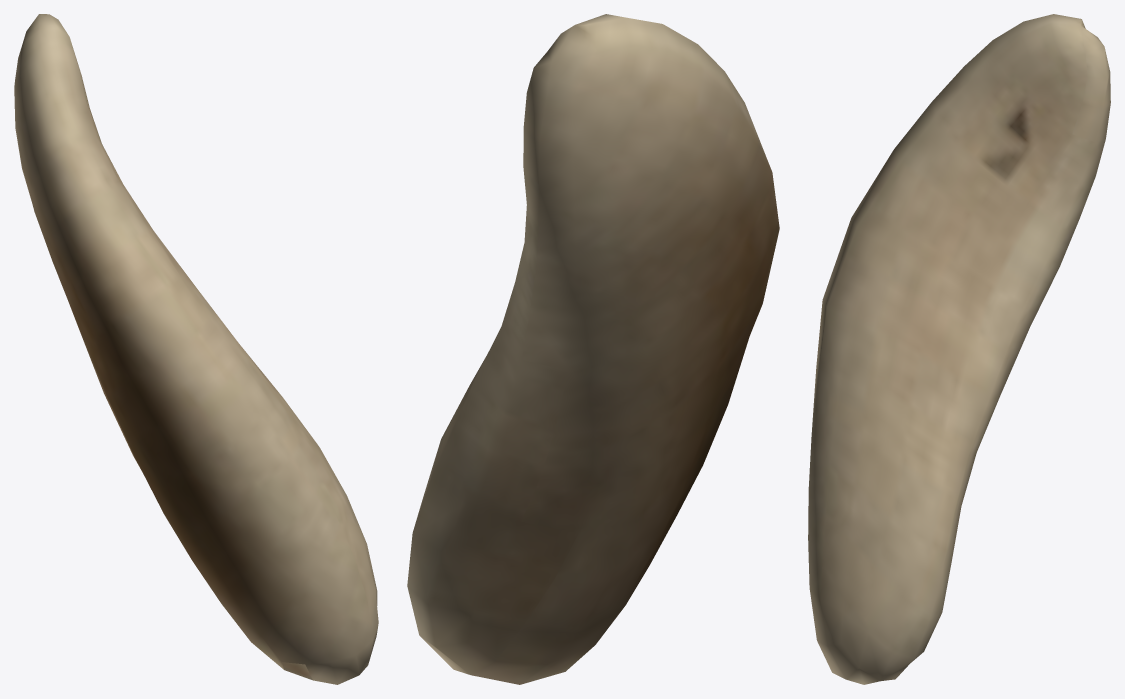
Rendered from Upper_Incisor5.glb.
3 renders of one model, left to right at view 1: azimuth 30°, elevation 25°; view 2: azimuth 150°, elevation 25°; view 3: azimuth 270°, elevation 25°, orthographic. The views are drawn at different scales.
Visible parts, largest first — view 1: Upper_Incisor; view 2: Upper_Incisor; view 3: Upper_Incisor.
Part boxes in pixels (x1,y1,x2,y2): Upper_Incisor: (14, 14, 378, 684); Upper_Incisor: (407, 14, 779, 684); Upper_Incisor: (808, 14, 1110, 684).
Size of the model in its own units: 0.0127 by 0.0267 by 0.0127.
Materials: 1 (1 with a texture image).
